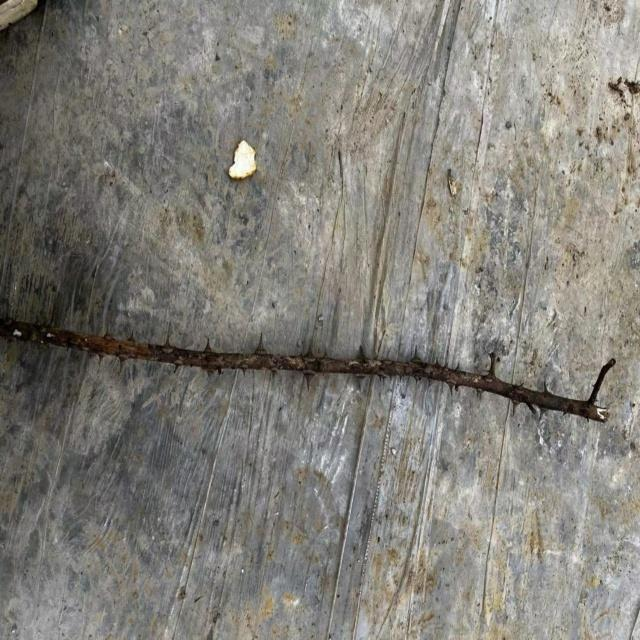branch: (0, 321, 610, 422)
